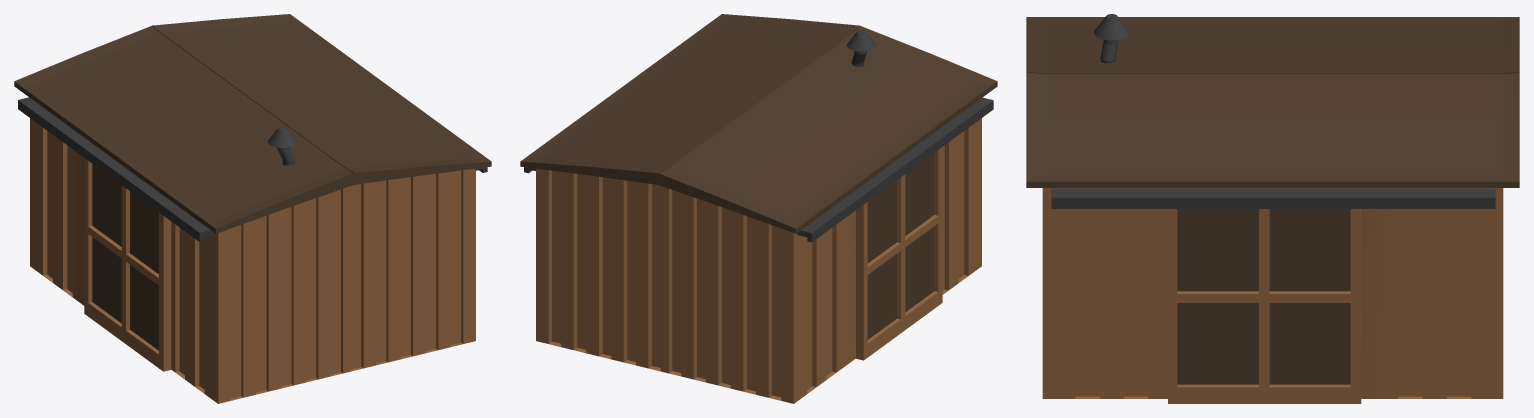
Rendered from storagecontainer_lowpoly.glb.
3 renders of one model, left to right at view 1: azimuth 30°, elevation 25°; view 2: azimuth 150°, elevation 25°; view 3: azimuth 270°, elevation 25°, orthographic. The views are drawn at different scales.
Parts seen in each view (by area): view 1: Storage_4, Storage Doors_3, Furnace_2; view 2: Storage_4, Storage Doors_3, Furnace_2; view 3: Storage_4, Storage Doors_3, Furnace_2.
Part boxes in pixels (x1,y1,x2,y2): Storage_4: (14,14,491,403); Storage Doors_3: (84,158,171,371); Furnace_2: (267,126,296,165); Storage_4: (520,14,997,403); Storage Doors_3: (856,147,942,360); Furnace_2: (846,30,875,66); Storage_4: (1026,17,1519,398); Storage Doors_3: (1168,209,1361,403); Furnace_2: (1094,14,1129,63).
Size of the model in its own units: 3.61 by 2.79 by 4.38.
